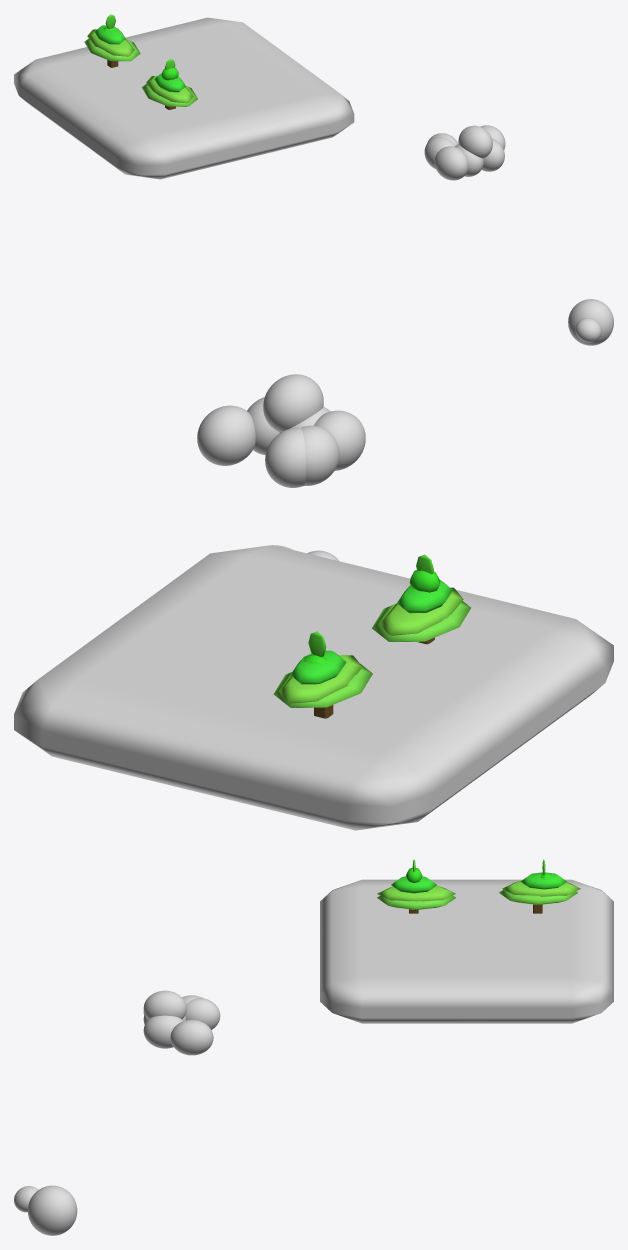
3 renders of one model, top to bottom at view 1: azimuth 30°, elevation 25°; view 2: azimuth 150°, elevation 25°; view 3: azimuth 270°, elevation 25°, orthographic. The views are drawn at different scales.
Visible parts, largest first — view 1: Cube.002, Sphere, Sphere 7.003, Sphere 10.003, Sphere.010, Sphere 4, Sphere.001, Sphere.004, Sphere 9.003, Sphere 11.003; view 2: Cube.002, Sphere 13.003, Sphere 10.003, Sphere 12.003, Sphere 11.003, Sphere 7.003, Sphere.001, Sphere.010, Sphere.007, Sphere.004, Sphere.002, Sphere.009 (+1 smaller); view 3: Cube.002, Sphere, Sphere 13.003, Sphere 10.003, Sphere 9.003, Sphere.001, Sphere 12.003, Sphere.010, Sphere.004, Sphere.007, Sphere.002, Sphere.009.
Boxes of the visible parts, box(x1,y1,x2,y2) form: Cube.002: box(14, 17, 354, 179); Sphere: box(568, 299, 613, 345); Sphere 7.003: box(434, 146, 467, 180); Sphere 10.003: box(458, 125, 492, 158); Sphere.010: box(87, 29, 134, 56); Sphere 4: box(575, 318, 601, 342); Sphere.001: box(146, 75, 193, 103); Sphere.004: box(84, 38, 140, 61); Sphere 9.003: box(481, 138, 504, 171); Sphere 11.003: box(424, 137, 455, 168); Cube.002: box(14, 545, 613, 830); Sphere 13.003: box(197, 405, 255, 465); Sphere 10.003: box(263, 374, 323, 432); Sphere 12.003: box(265, 427, 305, 487); Sphere 11.003: box(301, 425, 339, 485); Sphere 7.003: box(314, 410, 365, 470); Sphere.001: box(379, 587, 463, 635); Sphere.010: box(279, 655, 362, 703); Sphere.007: box(372, 601, 470, 641); Sphere.004: box(273, 664, 372, 707); Sphere.002: box(290, 650, 346, 684); Sphere.009: box(397, 580, 452, 613); Cube.002: box(320, 879, 613, 1023); Sphere: box(28, 1185, 77, 1235); Sphere 13.003: box(170, 1019, 213, 1055); Sphere 10.003: box(143, 990, 186, 1019); Sphere 9.003: box(143, 1015, 182, 1048); Sphere.001: box(377, 885, 455, 901); Sphere 12.003: box(185, 998, 220, 1029); Sphere.010: box(502, 880, 580, 896); Sphere.004: box(499, 889, 577, 904); Sphere.007: box(377, 895, 455, 909); Sphere.002: box(520, 872, 566, 889); Sphere.009: box(391, 876, 436, 893).
Size of the model in its own units: 18.43 by 11.24 by 25.3.
